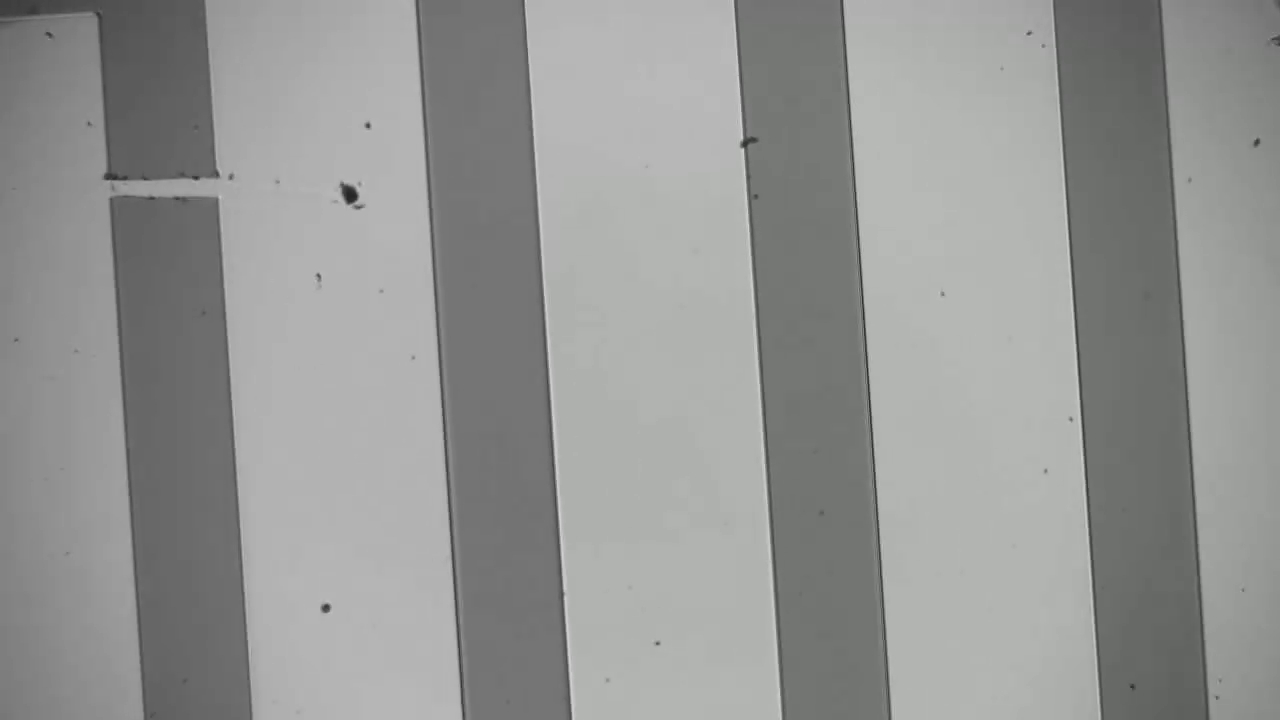Short_circuit: (80, 137, 267, 222)
